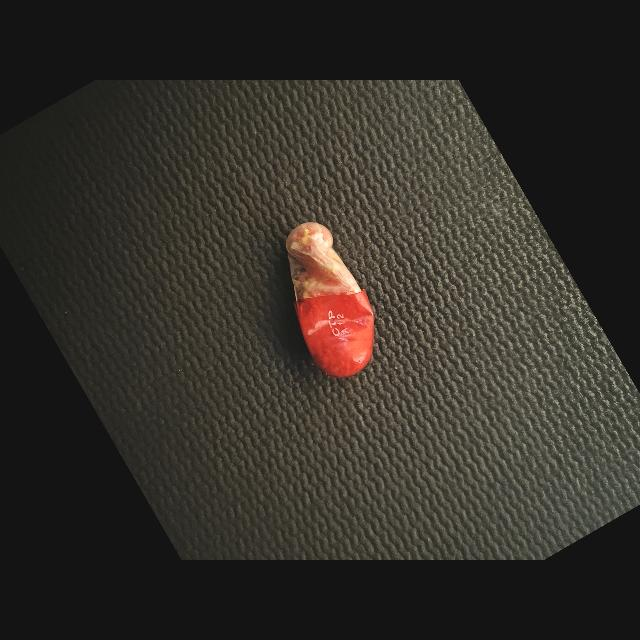Defective Capsule: (286, 222, 374, 377)
